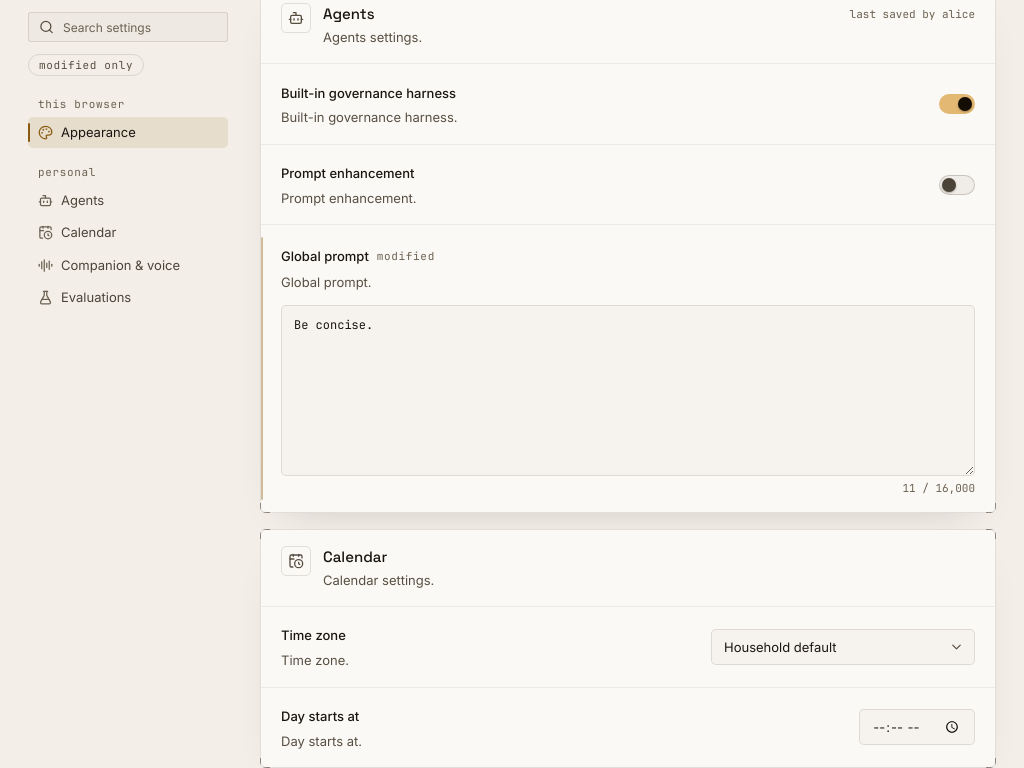
Scenario: Settings editing › shows the save bar only once something changed
(page scrolled)
Expected: the button "save changes" is not shown
Replace the text in the text box labelled "Global prompt" with "New instruction." at (628, 390), box [281, 305, 975, 476]
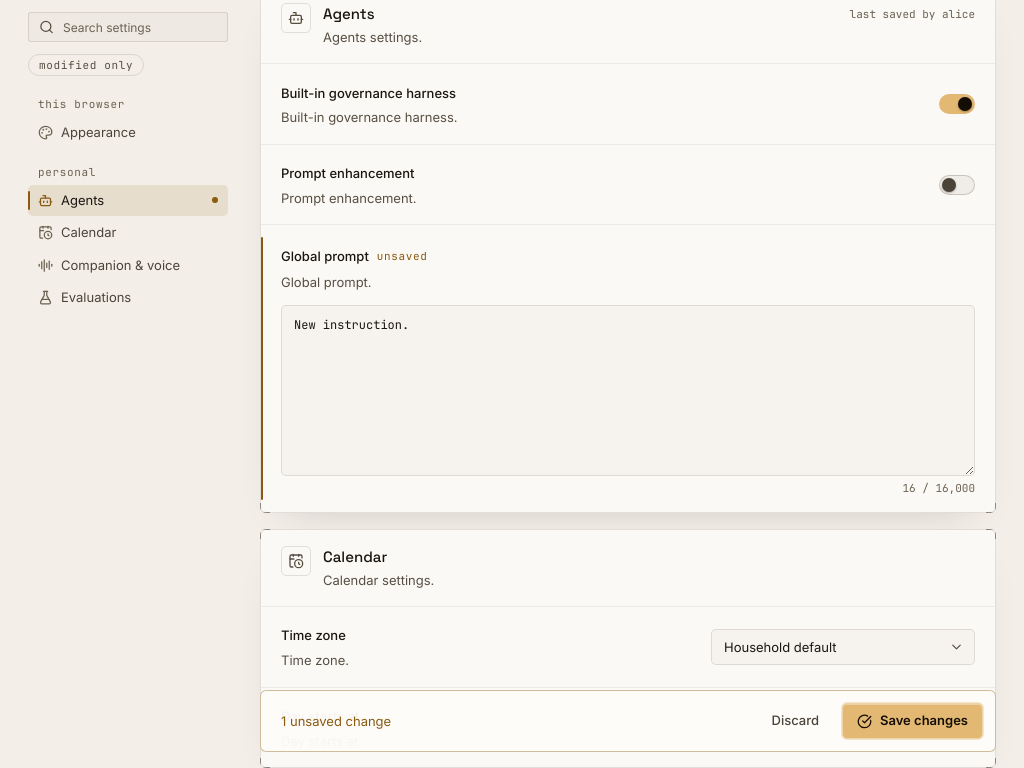
Now the text "1 unsaved change" is shown, box [281, 713, 391, 729]
Now the button "Save changes" is enabled, box [842, 703, 983, 739]
